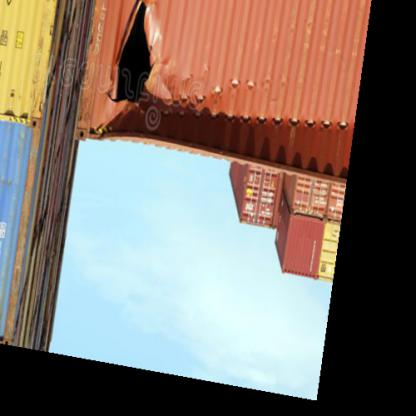Damage: (109, 109, 348, 178), (91, 3, 165, 144)
